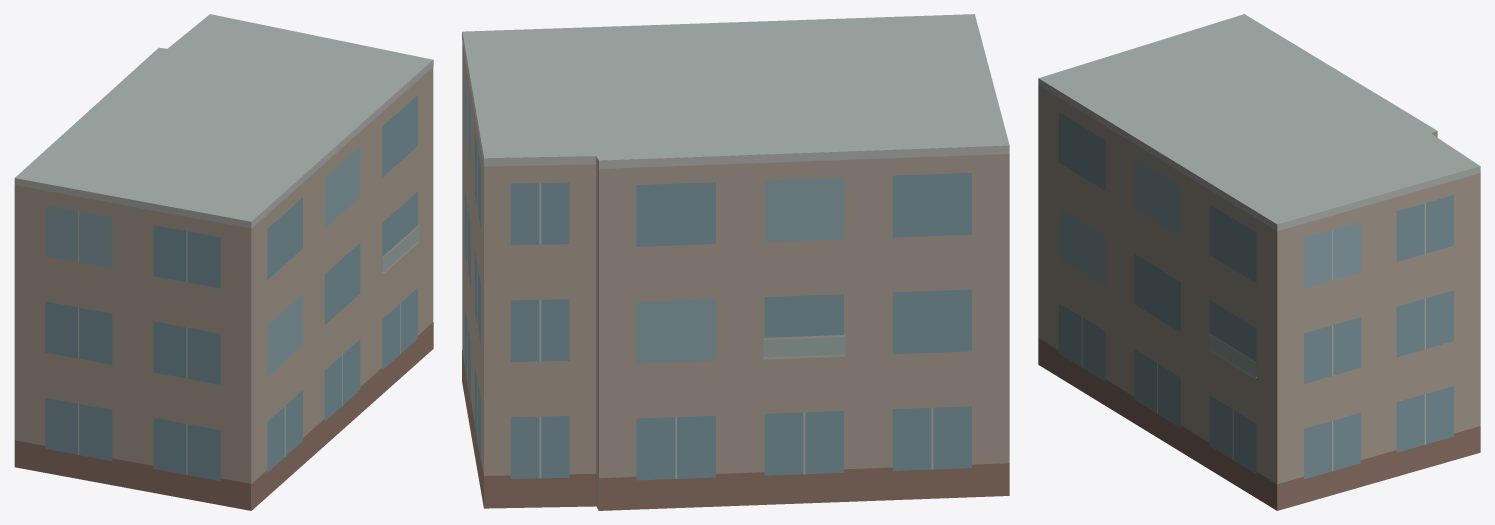
The model's file is survey-upis-32996712.glb.
3 renders of one model, left to right at view 1: azimuth 30°, elevation 25°; view 2: azimuth 150°, elevation 25°; view 3: azimuth 270°, elevation 25°, orthographic. The views are drawn at different scales.
Parts seen in each view (by area): view 1: survey-upis-32996712.tmp; view 2: survey-upis-32996712.tmp; view 3: survey-upis-32996712.tmp.
Part boxes in pixels (x1,y1,x2,y2): survey-upis-32996712.tmp: (14,14,433,510); survey-upis-32996712.tmp: (462,14,1009,510); survey-upis-32996712.tmp: (1038,14,1480,510).
Bounding box in the file's own units: 16.08 × 10.2 × 14.28.
